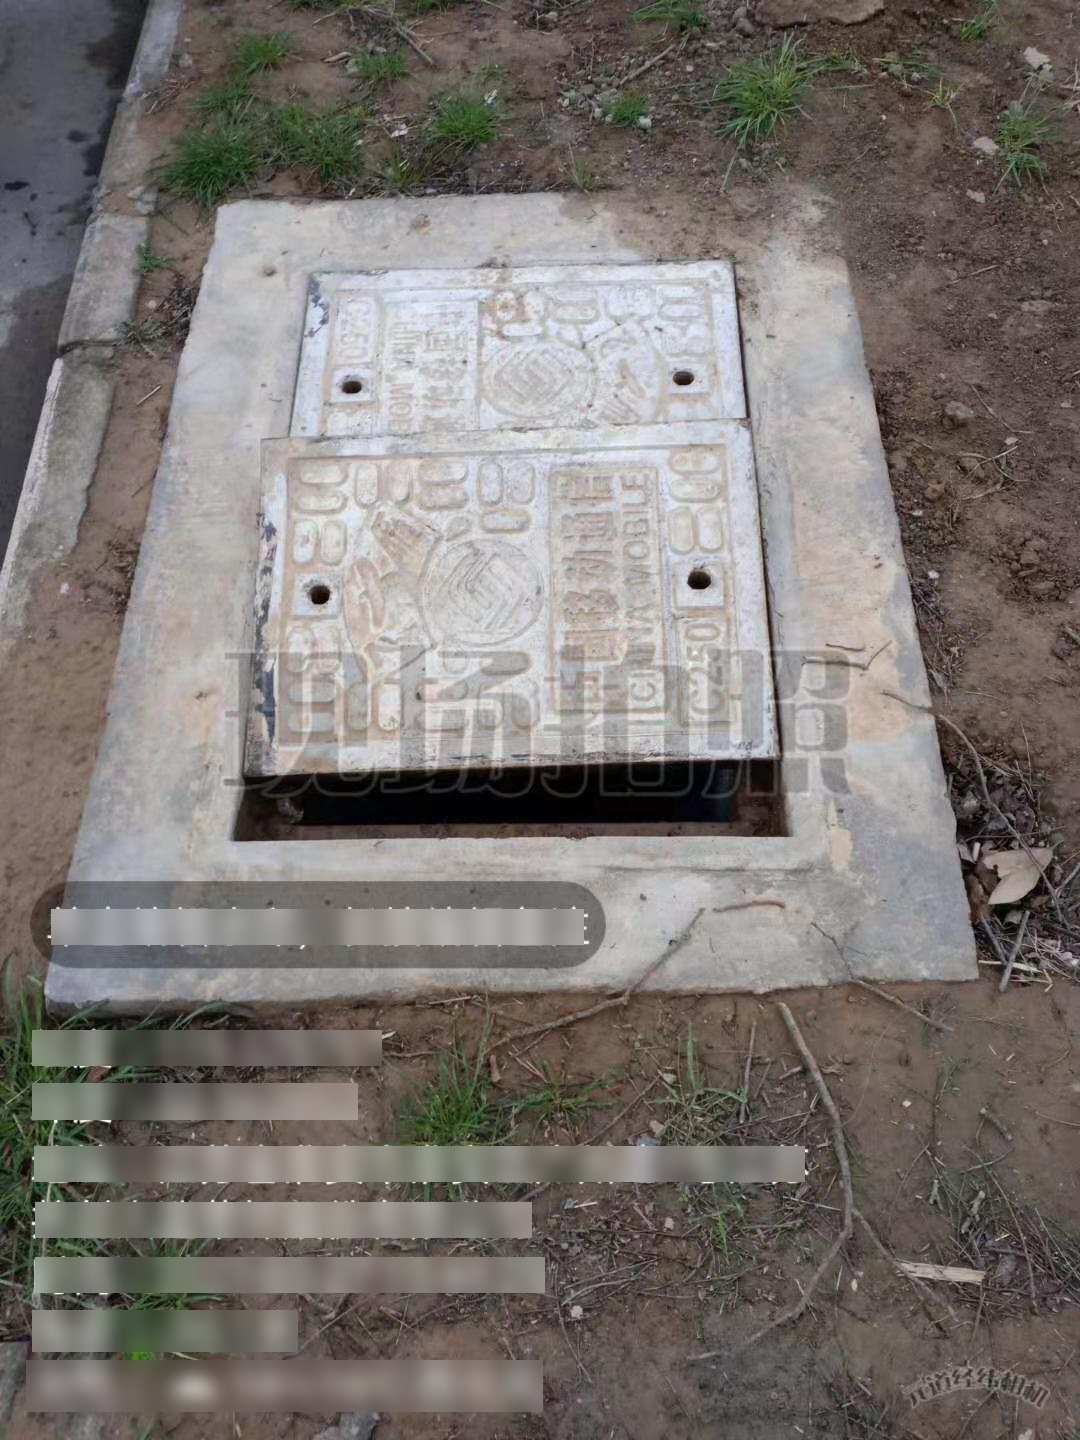uncovered: (228, 253, 828, 874)
